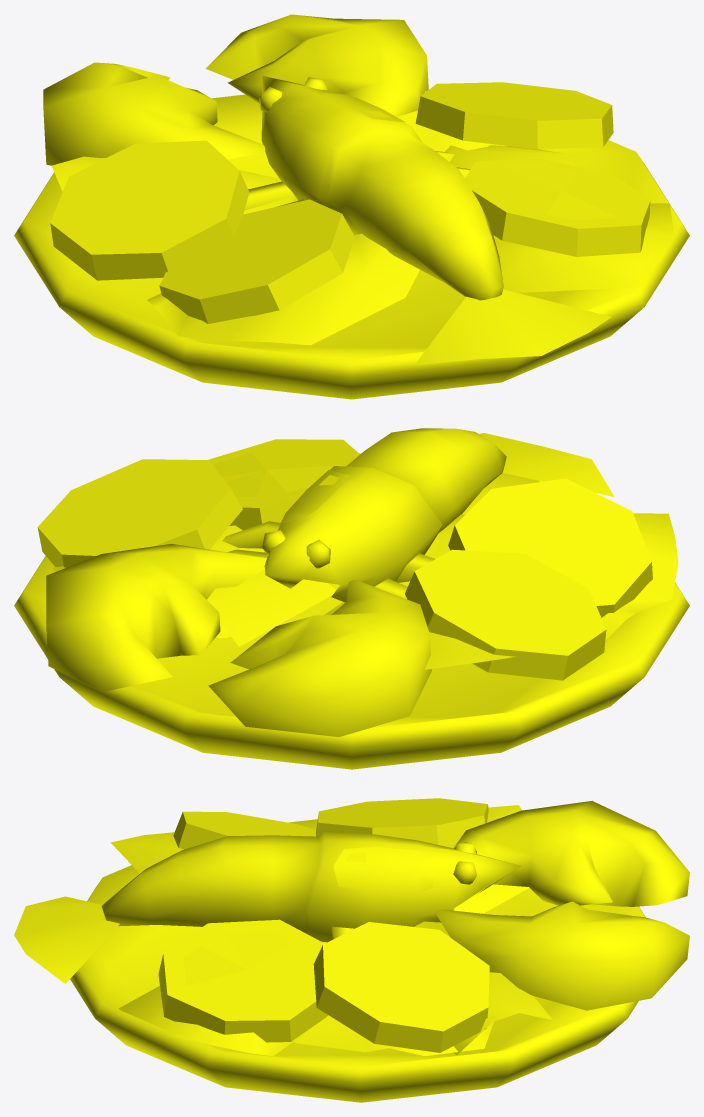
Rendered from 97_Food_Model.gltf.
3 renders of one model, top to bottom at view 1: azimuth 30°, elevation 25°; view 2: azimuth 150°, elevation 25°; view 3: azimuth 270°, elevation 25°, orthographic. The views are drawn at different scales.
Parts seen in each view (by area): view 1: 97_Food_Model; view 2: 97_Food_Model; view 3: 97_Food_Model.
Boxes of the visible parts, x1,y1,x2,y2 form: 97_Food_Model: [14, 14, 689, 399]; 97_Food_Model: [14, 428, 689, 769]; 97_Food_Model: [14, 798, 689, 1102].
Bounding box in the file's own units: 1.44 × 0.3795 × 1.58.
1 material, 1 textured.
